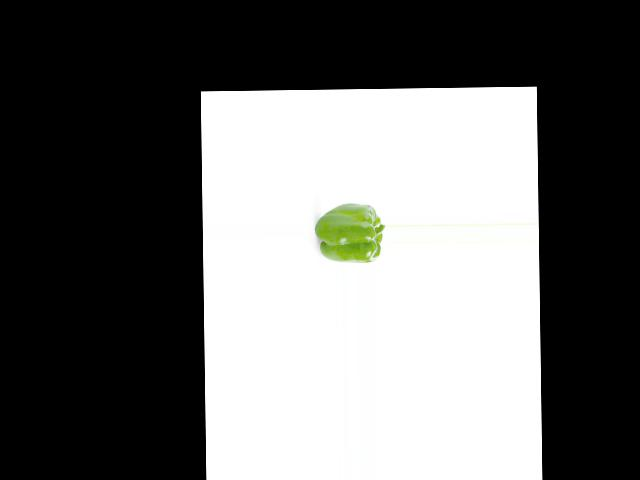bell_pepper: (316, 201, 384, 264)
